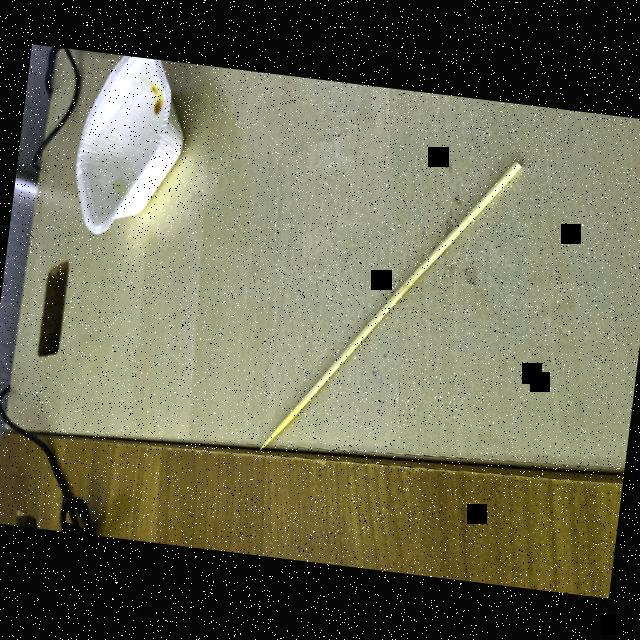cardboard_bowl: (56, 49, 222, 252)
stick: (246, 116, 552, 488)
